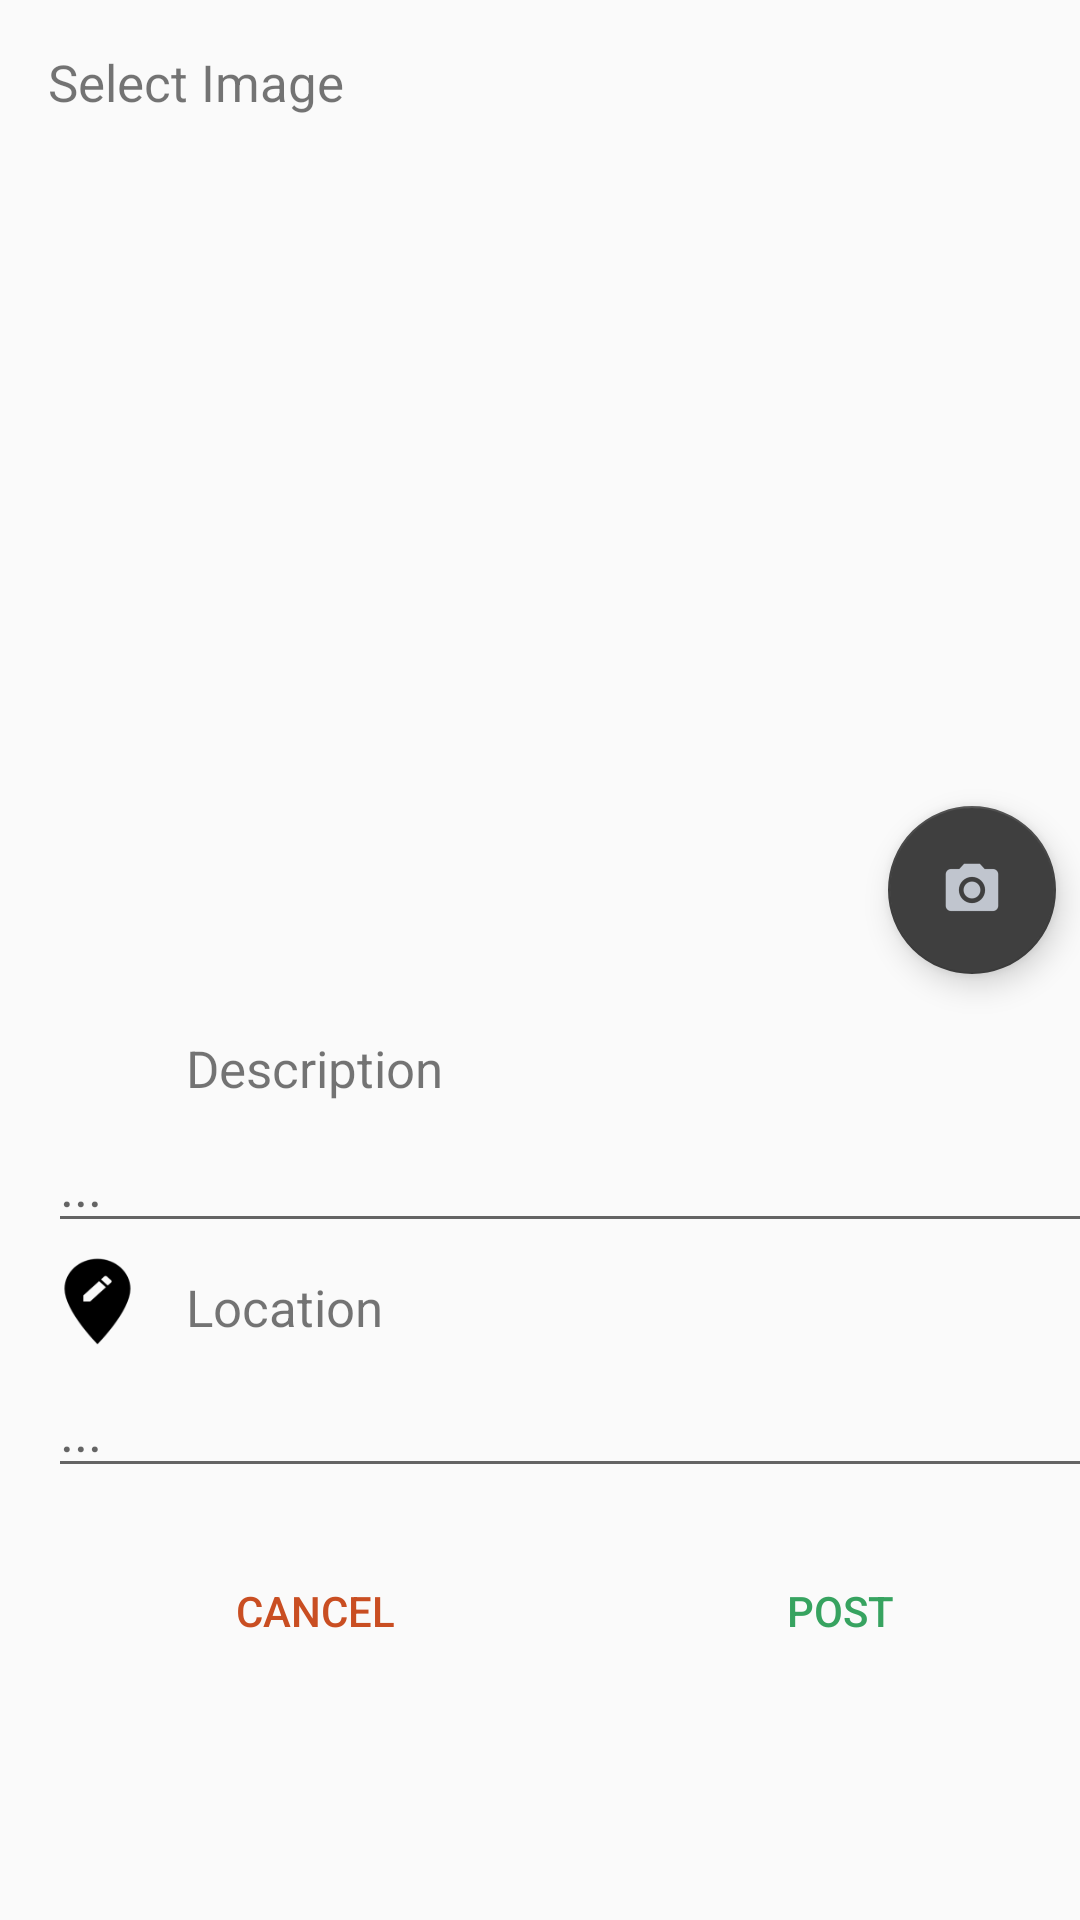

Named icons in this screenshot (1080px x 1920px) and their bounding boxes, rect(x1, y1, x2, y2):
camerabuttongrey: rect(888, 806, 1056, 974)
